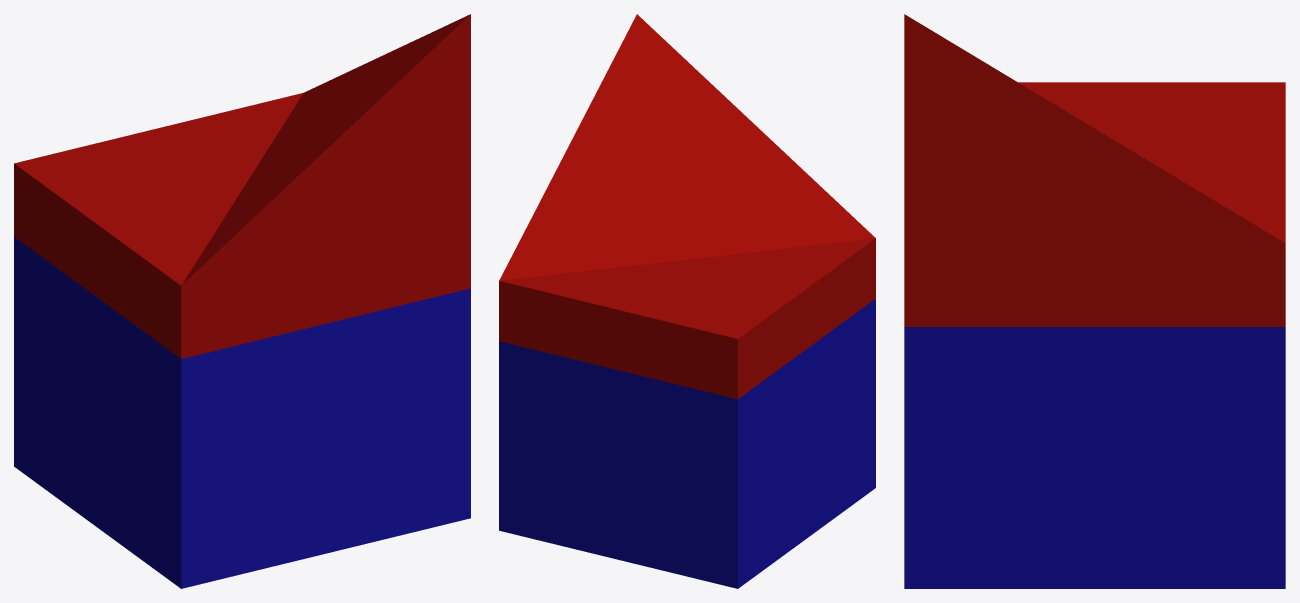
File: testtex.obj
The picture shows the model from 3 angles, left to right: view 1: azimuth 30°, elevation 25°; view 2: azimuth 150°, elevation 25°; view 3: azimuth 270°, elevation 25°; orthographic projection. The views are drawn at different scales.
Parts seen in each view (by area): view 1: Cube; view 2: Cube; view 3: Cube.
Boxes of the visible parts, left/top/right/bottom form: Cube: left=14, top=14, right=470, bottom=588; Cube: left=499, top=14, right=875, bottom=588; Cube: left=904, top=14, right=1285, bottom=588.
Size of the model in its own units: 2 by 3.33 by 2.
